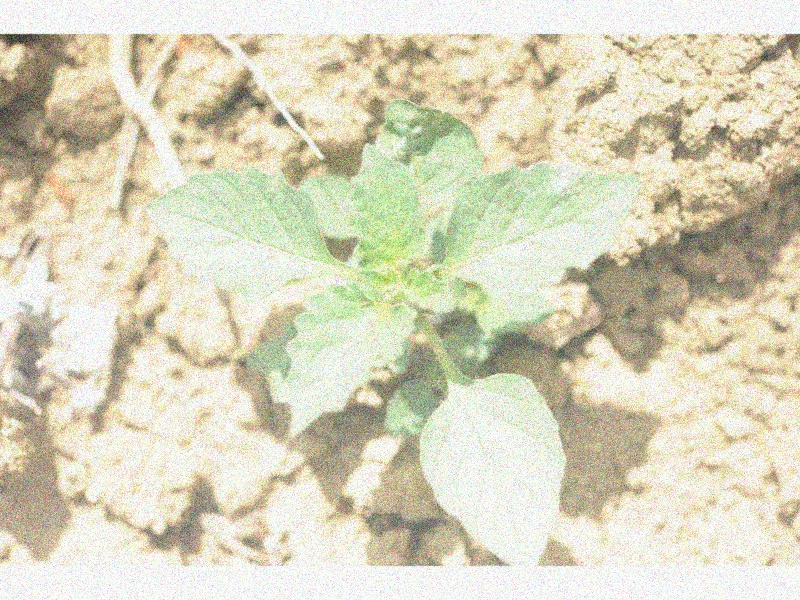nightshade: (145, 100, 641, 575)
